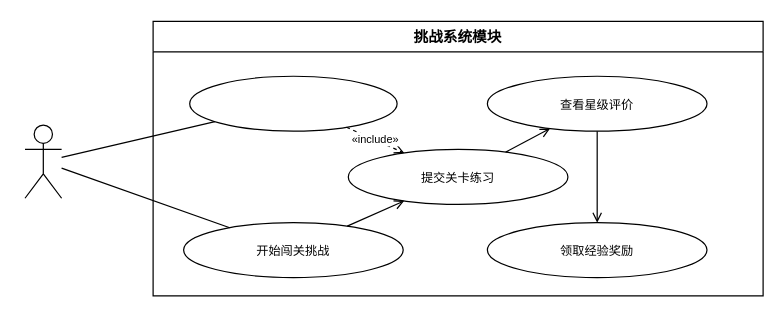
The diagram is 784 pixels wide and 317 high, and some of its shapes have lost their labels. The box of each missing label's shape, as (x1, y1, x2, y2) in pixels:
学习者: (24, 124, 62, 198)
完成每日任务: (188, 75, 397, 131)
